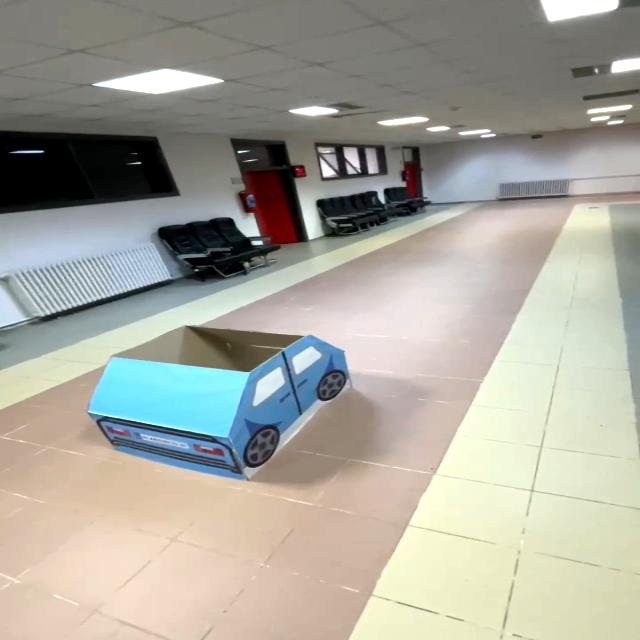blue_car: (62, 306, 367, 497)
